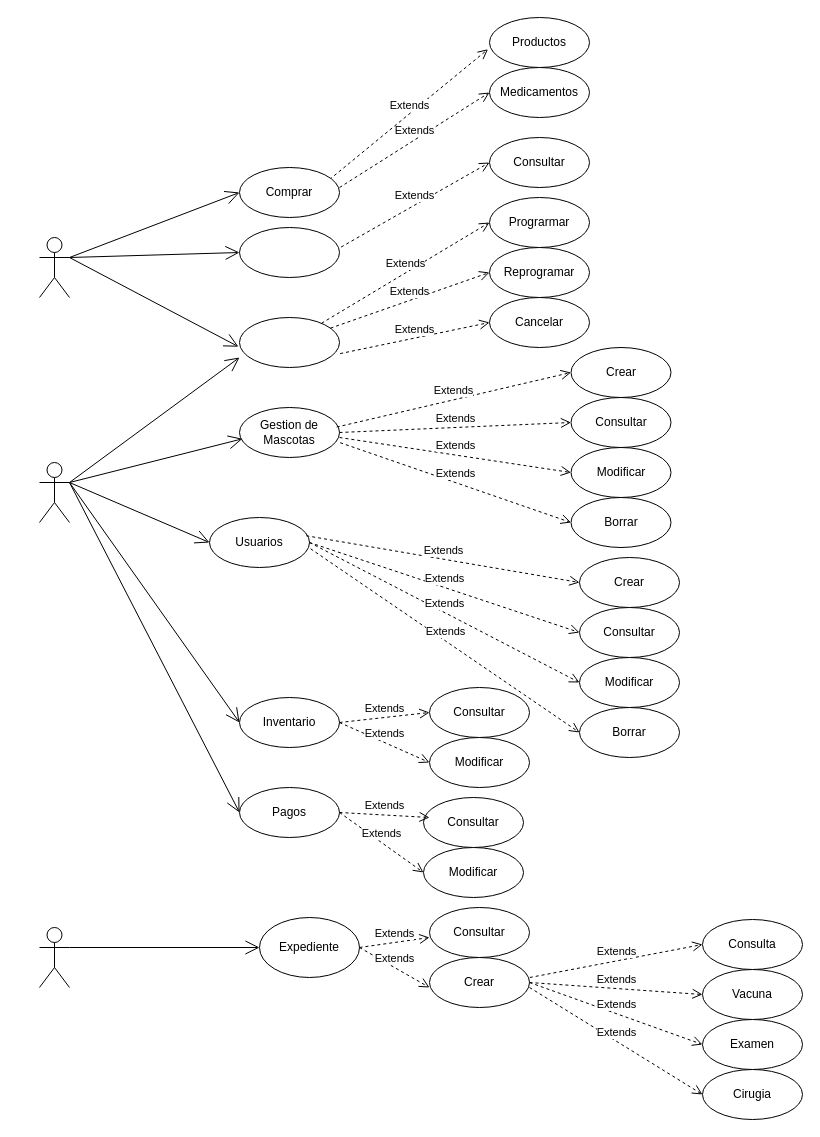
Image size: 820x1137. Some labels were removed from this diagram. Here are the shapes that lost their labels. From the top down, the centre of each, then its label:
At (x=54, y=267): "Dueño".
At (x=289, y=252): "Mascotas".
At (x=289, y=342): "Citas".
At (x=54, y=492): "Administrador".
At (x=54, y=957): "Veterinario".
